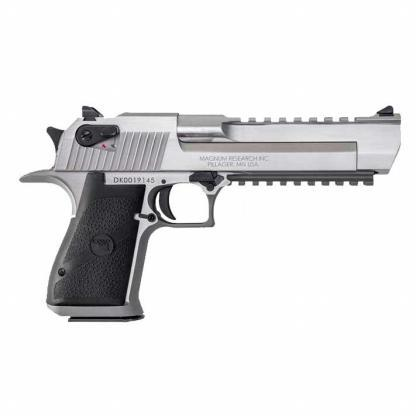Pistol: (19, 101, 402, 322)
